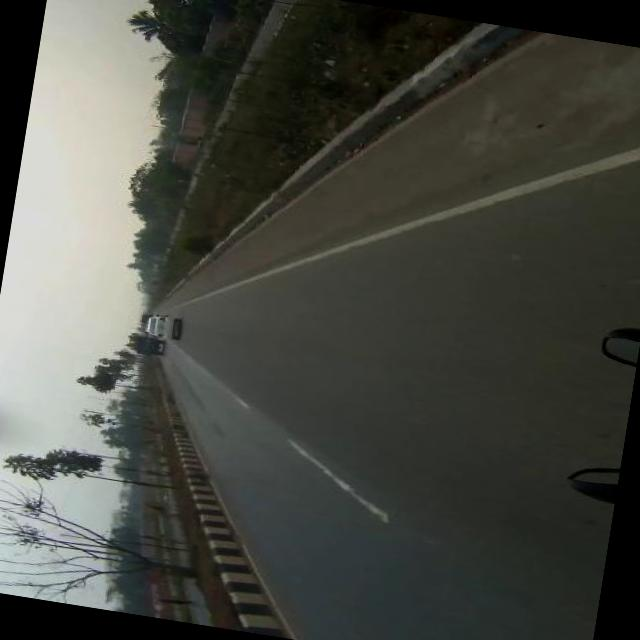car: (144, 310, 180, 338)
truck: (134, 334, 162, 356)
